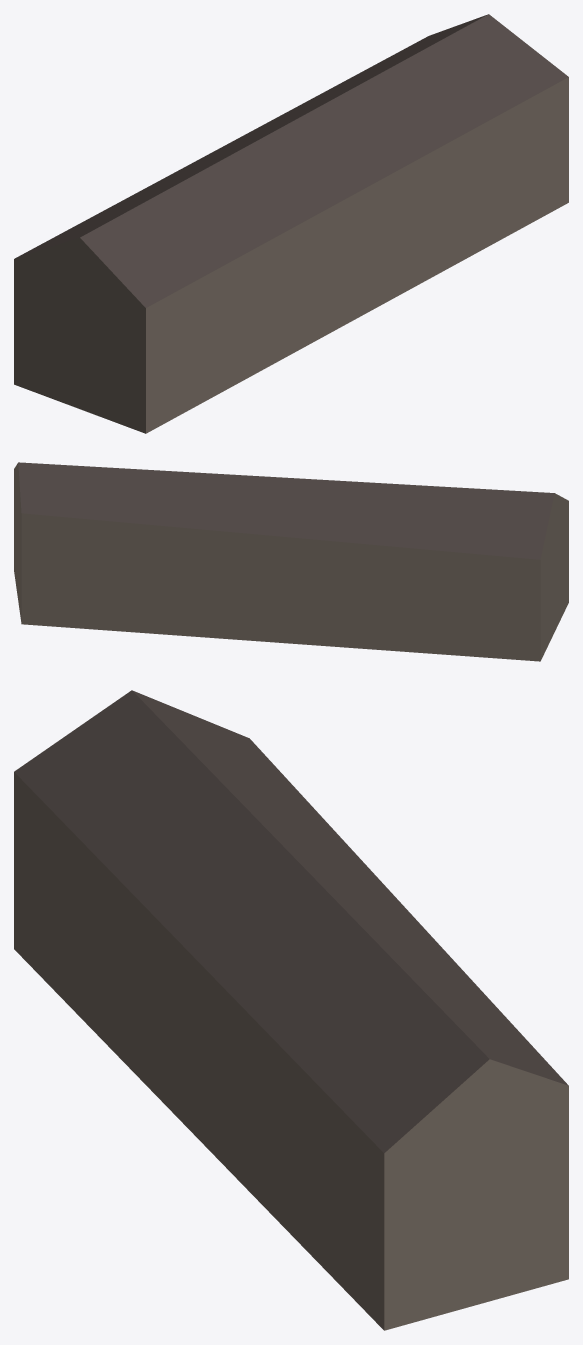
3 renders of one model, top to bottom at view 1: azimuth 30°, elevation 25°; view 2: azimuth 150°, elevation 25°; view 3: azimuth 270°, elevation 25°, orthographic. The views are drawn at different scales.
Parts seen in each view (by area): view 1: HP-w1512359837; view 2: HP-w1512359837; view 3: HP-w1512359837.
Boxes of the visible parts, <box> form: HP-w1512359837: <box>14,14,568,433</box>; HP-w1512359837: <box>14,462,568,661</box>; HP-w1512359837: <box>14,690,568,1330</box>.
Size of the model in its own units: 30.12 by 8.2 by 17.02.
